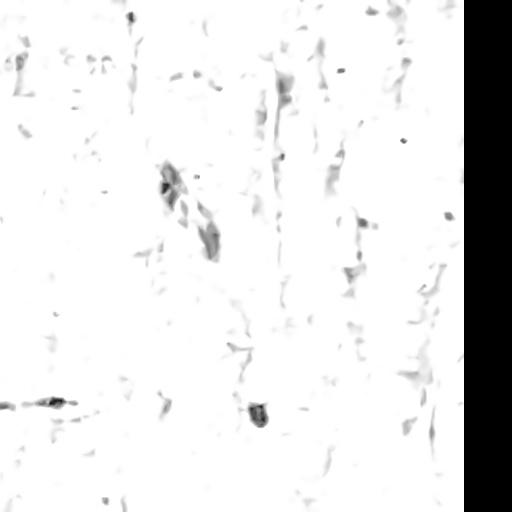egg: (20, 396, 77, 408), (0, 401, 16, 409)
